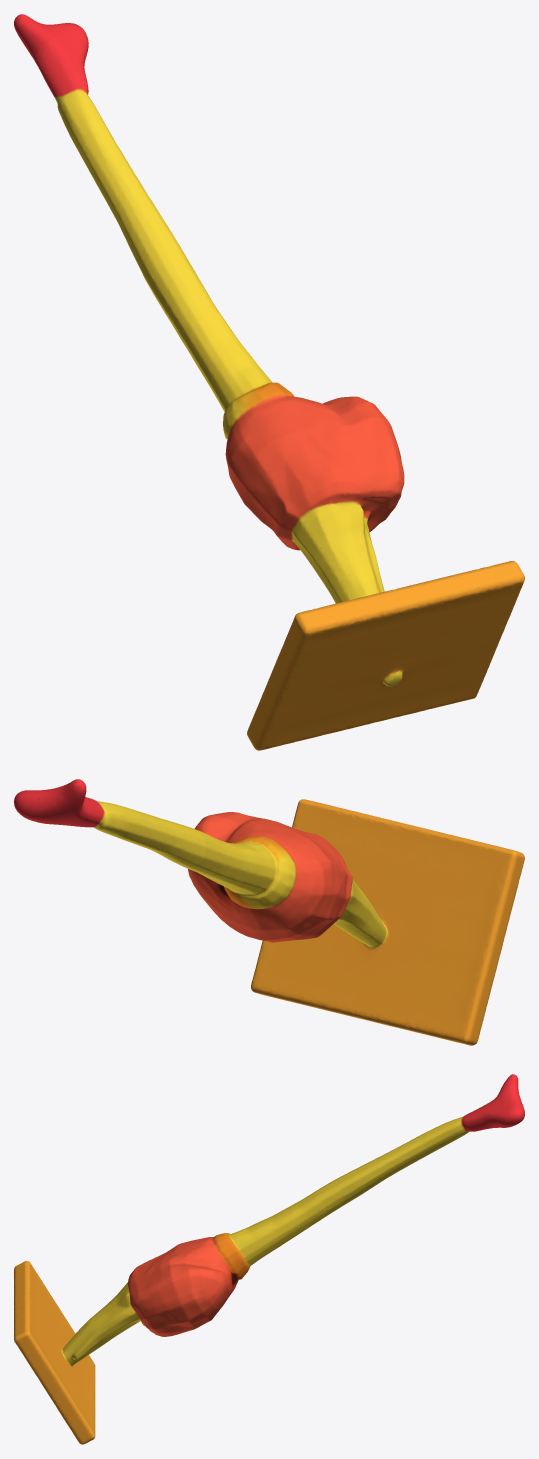
File: shovel.glb
The picture shows the model from 3 angles, top to bottom: view 1: azimuth 30°, elevation 25°; view 2: azimuth 150°, elevation 25°; view 3: azimuth 270°, elevation 25°; orthographic projection. The views are drawn at different scales.
Visible parts, largest first — view 1: world; view 2: world; view 3: world.
Part boxes in pixels (bbox=[...]): world: bbox=[14, 14, 524, 750]; world: bbox=[14, 779, 524, 1045]; world: bbox=[14, 1074, 524, 1444].
Size of the model in its own units: 0.341 by 0.7071 by 1.
1 material, 1 textured.
